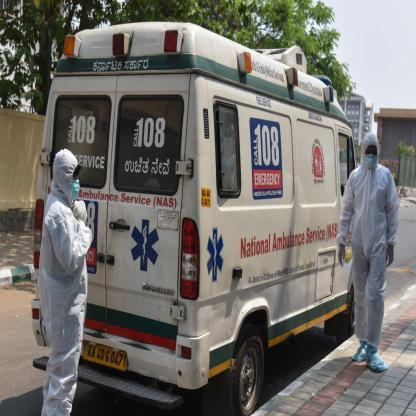Ambulance: (251, 117, 284, 198), (127, 218, 160, 273), (130, 114, 169, 150), (64, 113, 98, 146), (205, 228, 224, 282)
